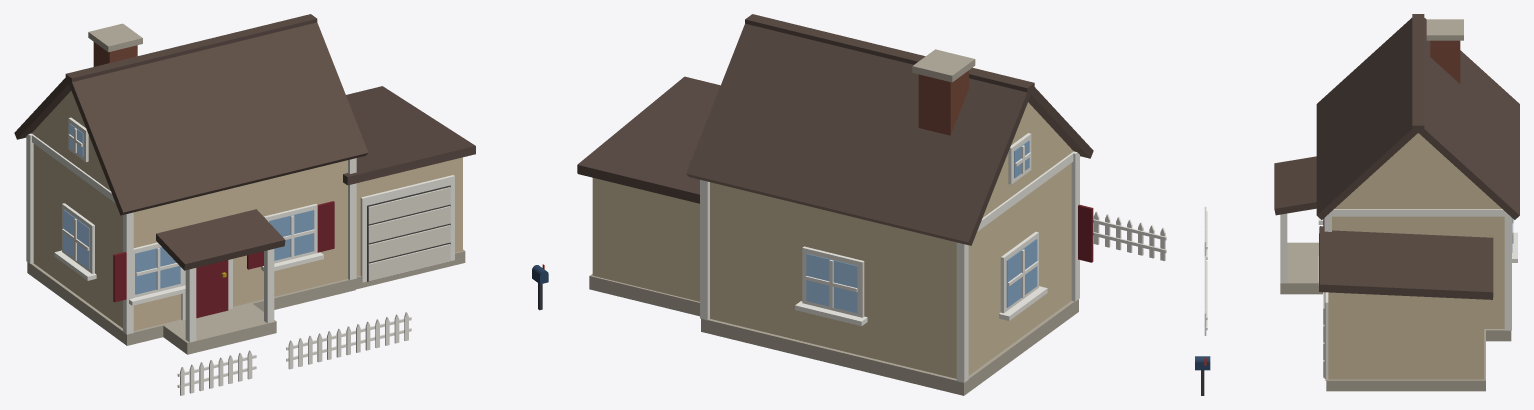
Rendered from house.glb.
3 views of the same model, side by side, from view 1: azimuth 30°, elevation 25°; view 2: azimuth 150°, elevation 25°; view 3: azimuth 270°, elevation 25° (orthographic). The views are drawn at different scales.
Visible parts, largest first — view 1: part-roof, part-siding, part-trim, part-stone, part-garage-door, part-glass, part-shutter, part-door, part-garage-gap, part-brick; view 2: part-roof, part-siding, part-trim, part-stone, part-glass, part-brick, part-shutter; view 3: part-roof, part-siding, part-stone, part-trim, part-brick.
Part boxes in pixels (bbox=[...]): part-roof: bbox=[14, 14, 475, 270]; part-siding: bbox=[32, 90, 462, 330]; part-trim: bbox=[26, 117, 454, 395]; part-stone: bbox=[27, 23, 465, 354]; part-garage-door: bbox=[368, 187, 450, 281]; part-glass: bbox=[63, 124, 314, 294]; part-shutter: bbox=[113, 201, 334, 302]; part-door: bbox=[196, 260, 228, 318]; part-garage-gap: bbox=[367, 185, 450, 281]; part-brick: bbox=[93, 42, 137, 66]; part-roof: bbox=[577, 14, 1093, 245]; part-siding: bbox=[592, 102, 1073, 378]; part-trim: bbox=[700, 133, 1166, 382]; part-stone: bbox=[589, 49, 1078, 395]; part-glass: bbox=[806, 140, 1037, 313]; part-brick: bbox=[918, 70, 968, 135]; part-shutter: bbox=[1078, 204, 1093, 262]; part-roof: bbox=[1274, 14, 1519, 299]; part-siding: bbox=[1328, 133, 1504, 379]; part-stone: bbox=[1280, 19, 1511, 391]; part-trim: bbox=[1204, 206, 1517, 380]; part-brick: bbox=[1430, 40, 1460, 83].
Bounding box in the file's own units: 144 × 94.6 × 119.
